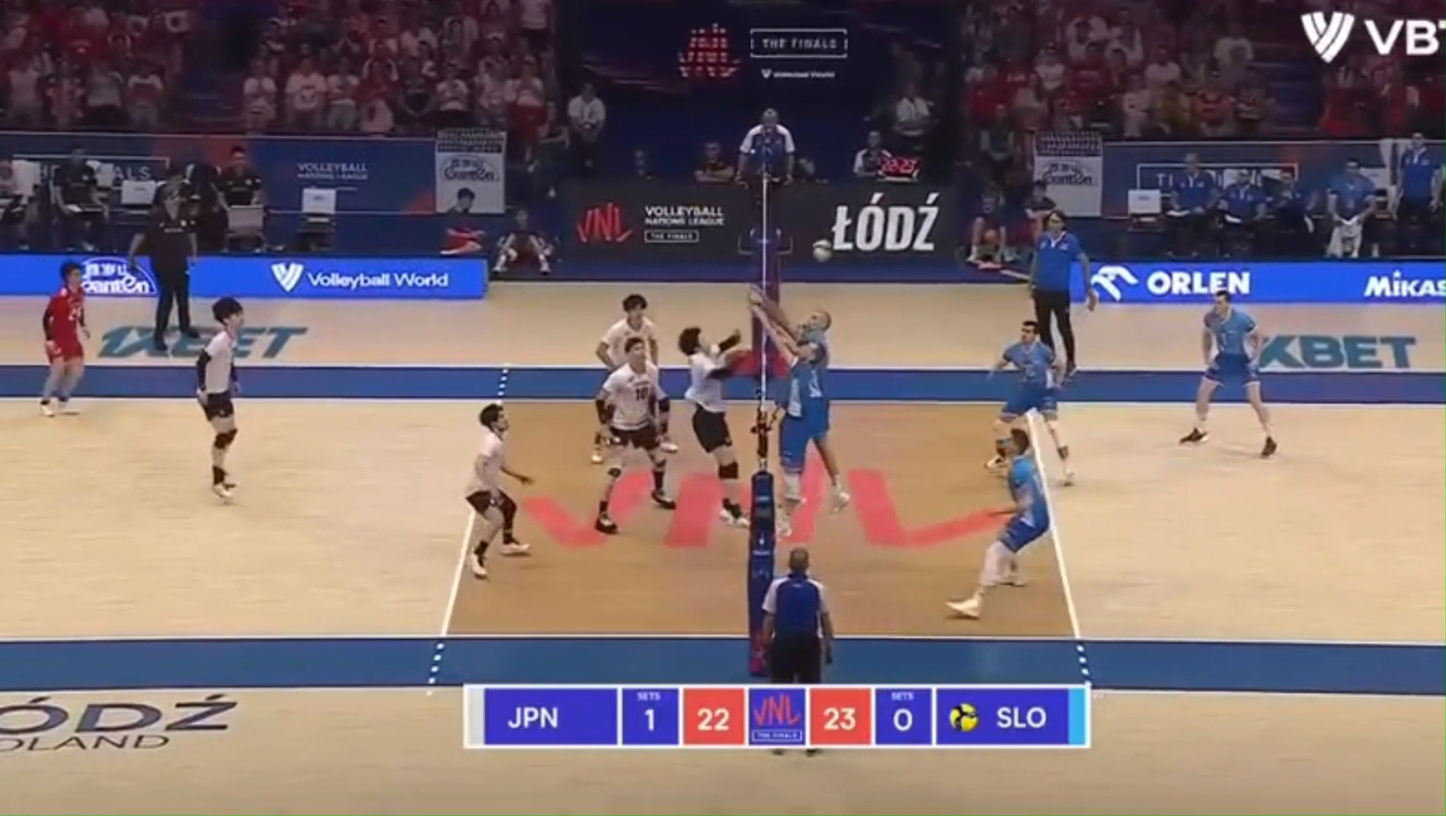ball: (813, 240, 832, 261)
player: (750, 293, 849, 508), (946, 427, 1050, 619), (1180, 291, 1276, 457), (752, 303, 814, 536), (987, 320, 1073, 482), (1024, 347, 1116, 352)
player 1: (595, 338, 675, 533), (678, 326, 746, 526), (596, 293, 677, 453), (464, 403, 531, 579), (196, 296, 243, 499), (39, 261, 88, 416)
referee: (1029, 209, 1097, 375), (128, 199, 198, 350), (762, 548, 833, 683), (736, 108, 795, 257), (1056, 261, 1056, 261)
